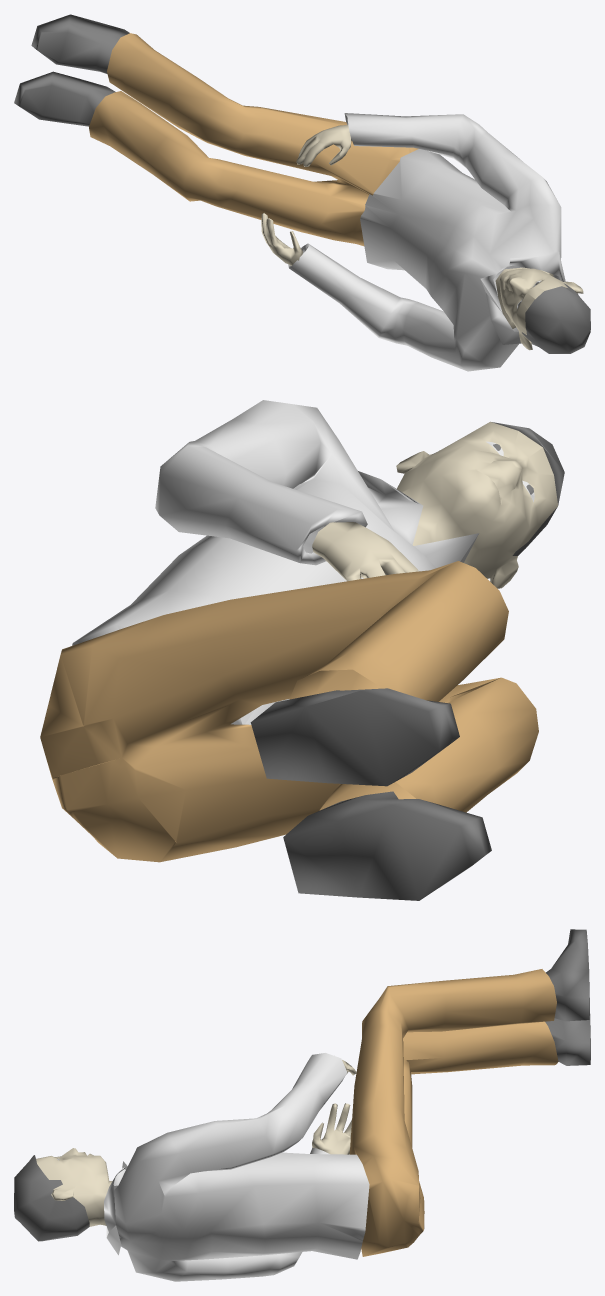
3 renders of one model, top to bottom at view 1: azimuth 30°, elevation 25°; view 2: azimuth 150°, elevation 25°; view 3: azimuth 270°, elevation 25°, orthographic. The views are drawn at different scales.
Visible parts, largest first — view 1: coords_ME_ID11_MA_Shape_003, coords_ME_ID39_MA_Shape_10, coords_ME_ID19_MA_Shape_9, coords_ME_ID33_MA_Shape_9, coords_ME_ID47_MA_Shape_9, coords_ME_ID3_MA_Shape_8, coords_ME_ID67_MA_Shape_8, coords_ME_ID27_MA_Shape_8; view 2: coords_ME_ID39_MA_Shape_10, coords_ME_ID11_MA_Shape_003, coords_ME_ID47_MA_Shape_9, coords_ME_ID3_MA_Shape_8, coords_ME_ID19_MA_Shape_9, coords_ME_ID67_MA_Shape_8, coords_ME_ID33_MA_Shape_9; view 3: coords_ME_ID11_MA_Shape_003, coords_ME_ID39_MA_Shape_10, coords_ME_ID33_MA_Shape_9, coords_ME_ID3_MA_Shape_8, coords_ME_ID19_MA_Shape_9, coords_ME_ID47_MA_Shape_9, coords_ME_ID27_MA_Shape_8.
Boxes of the visible parts, x1=… form: coords_ME_ID11_MA_Shape_003: x1=288, y1=113, x2=565, y2=371; coords_ME_ID39_MA_Shape_10: x1=89, y1=33, x2=418, y2=246; coords_ME_ID19_MA_Shape_9: x1=31, y1=14, x2=129, y2=73; coords_ME_ID33_MA_Shape_9: x1=522, y1=283, x2=590, y2=353; coords_ME_ID47_MA_Shape_9: x1=14, y1=71, x2=115, y2=126; coords_ME_ID3_MA_Shape_8: x1=495, y1=267, x2=583, y2=350; coords_ME_ID67_MA_Shape_8: x1=296, y1=125, x2=351, y2=166; coords_ME_ID27_MA_Shape_8: x1=261, y1=213, x2=302, y2=265; coords_ME_ID39_MA_Shape_10: x1=40, y1=561, x2=538, y2=862; coords_ME_ID11_MA_Shape_003: x1=72, y1=400, x2=478, y2=724; coords_ME_ID47_MA_Shape_9: x1=283, y1=791, x2=491, y2=900; coords_ME_ID3_MA_Shape_8: x1=396, y1=422, x2=557, y2=588; coords_ME_ID19_MA_Shape_9: x1=250, y1=688, x2=459, y2=786; coords_ME_ID67_MA_Shape_8: x1=312, y1=522, x2=418, y2=581; coords_ME_ID33_MA_Shape_9: x1=432, y1=422, x2=564, y2=578; coords_ME_ID11_MA_Shape_003: x1=104, y1=1053, x2=369, y2=1281; coords_ME_ID39_MA_Shape_10: x1=349, y1=969, x2=558, y2=1256; coords_ME_ID33_MA_Shape_9: x1=14, y1=1155, x2=89, y2=1241; coords_ME_ID3_MA_Shape_8: x1=36, y1=1148, x2=112, y2=1226; coords_ME_ID19_MA_Shape_9: x1=546, y1=929, x2=589, y2=1021; coords_ME_ID47_MA_Shape_9: x1=545, y1=1014, x2=590, y2=1065; coords_ME_ID27_MA_Shape_8: x1=312, y1=1103, x2=351, y2=1154.
Bounding box in the file's own units: 10.9 × 7.9 × 16.76.
